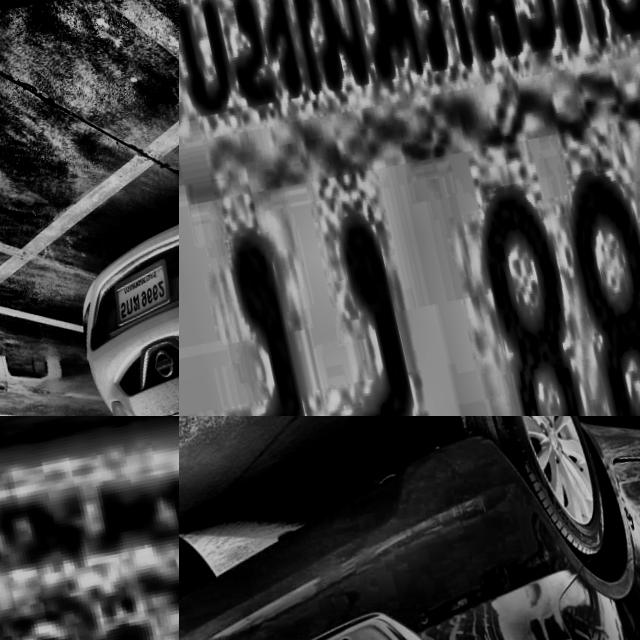license-plate: (179, 0, 640, 416), (0, 416, 179, 640), (104, 252, 179, 329)
